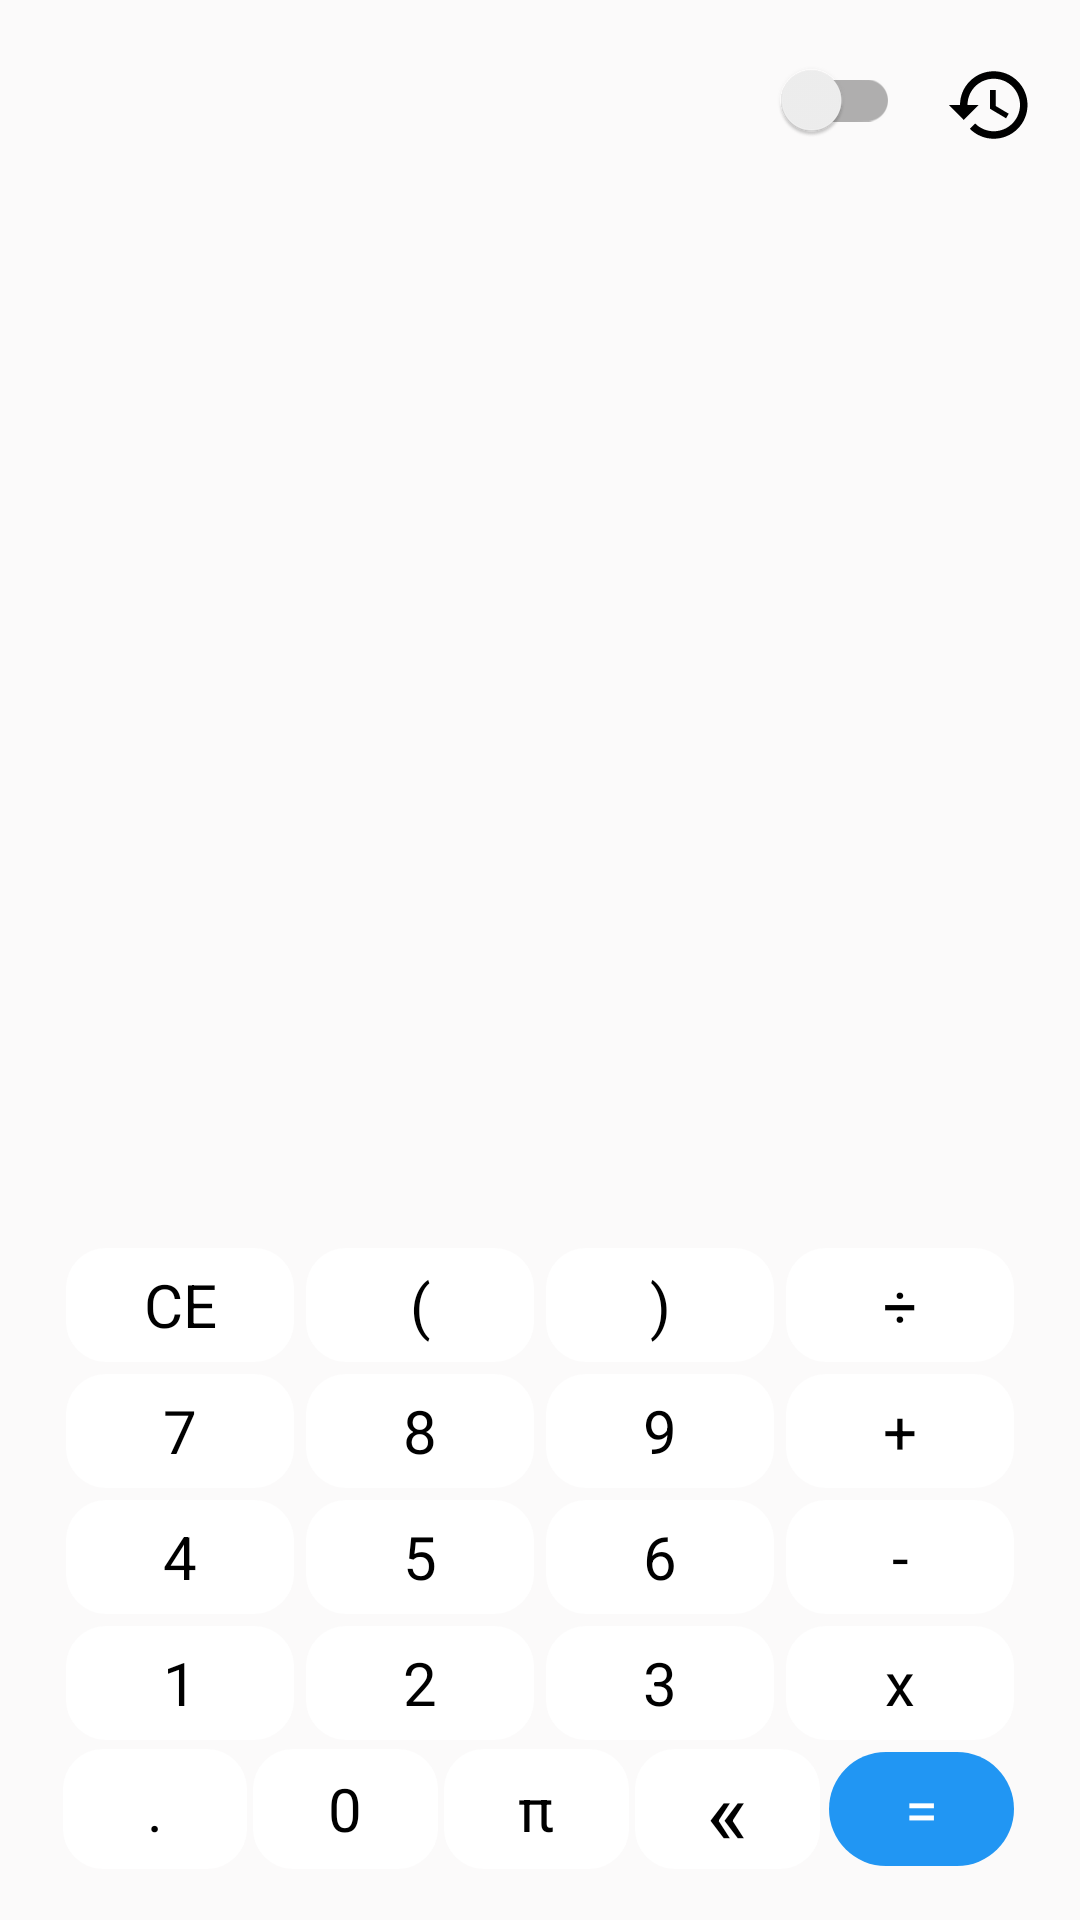

Icons on this 1080 × 1920 Android screen, each with the point to tap as (x,y):
history: (988,105)
